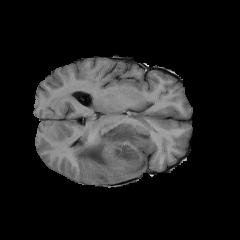glioma: (70, 121, 154, 183)
